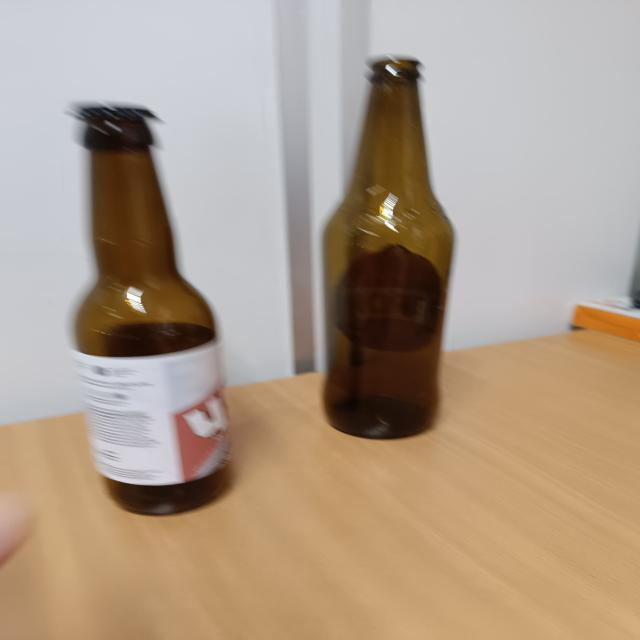Bottle: (67, 100, 236, 513), (322, 57, 448, 439)
Cap: (69, 100, 178, 127)
Label: (77, 349, 236, 482)
